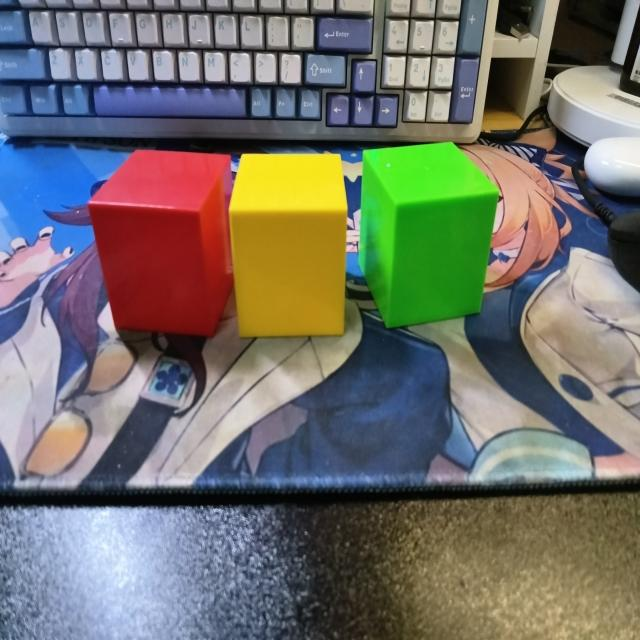green: (359, 144, 501, 330)
red: (86, 150, 234, 343)
yellow: (228, 153, 348, 341)
